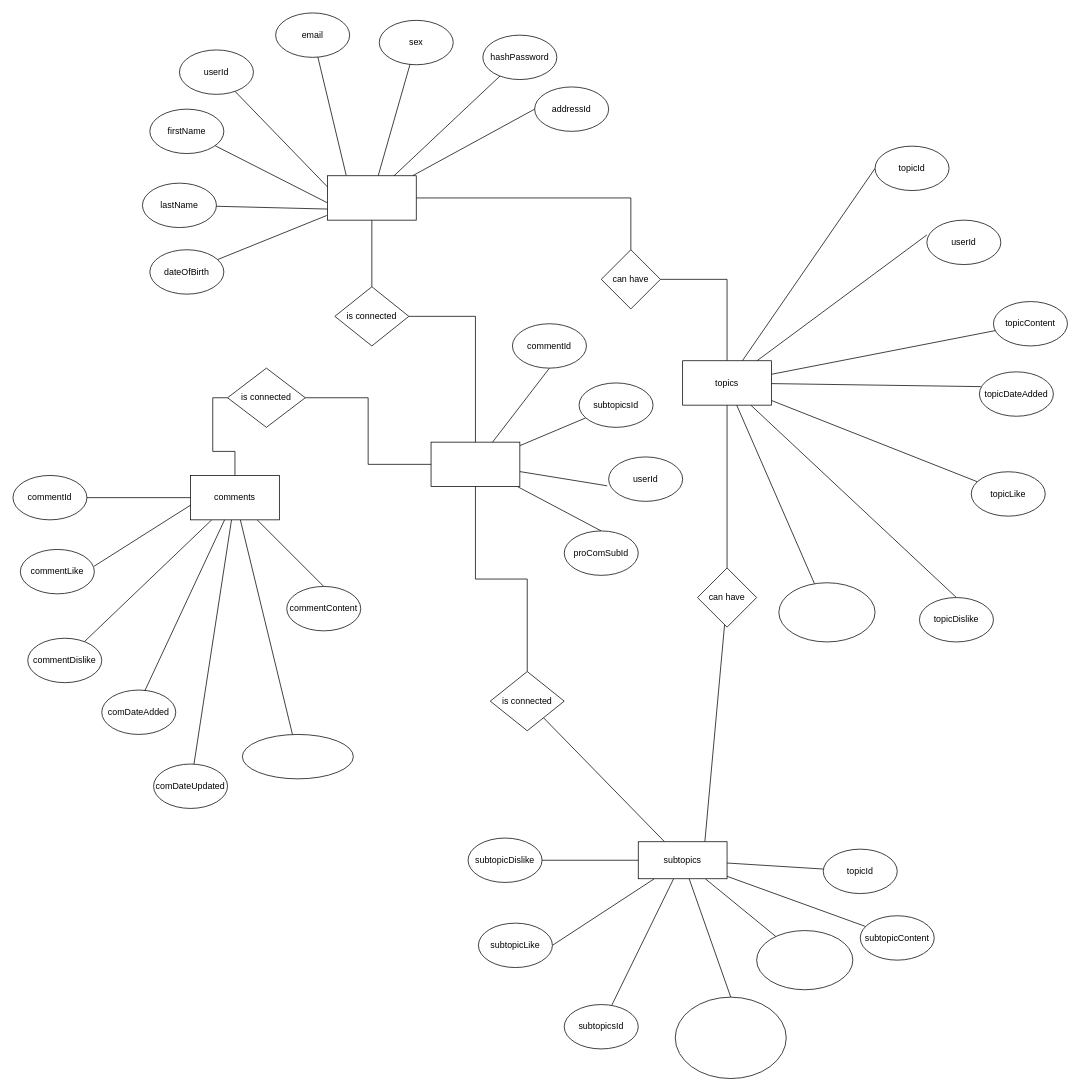
Some shapes in this 1080 by 1092 pixel diagram are drawn without their labels. Here are the shapes that lost their labels. From the top down, the centre of each, then its label:
At (371,197): "profile".
At (475,464): "proComSub".
At (826,612): "topicDateUpdated".
At (297,756): "markOfoffensiveness".
At (804,960): "subtopicDateAdded".
At (730,1037): "subtopicDateUpdated".
